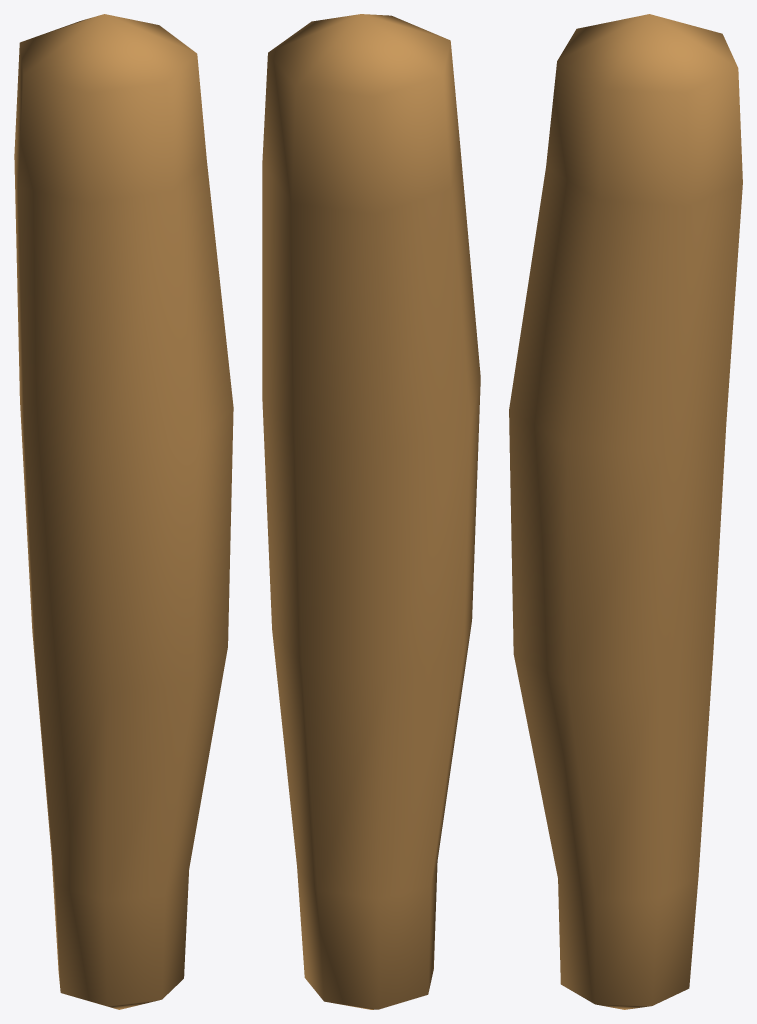
Rendered from tarsus4_T2_left_leg.obj.
The picture shows the model from 3 angles, left to right: view 1: azimuth 30°, elevation 25°; view 2: azimuth 150°, elevation 25°; view 3: azimuth 270°, elevation 25°; orthographic projection.
Bounding box in the file's own units: 0.00231 × 0.0119 × 0.00253.
